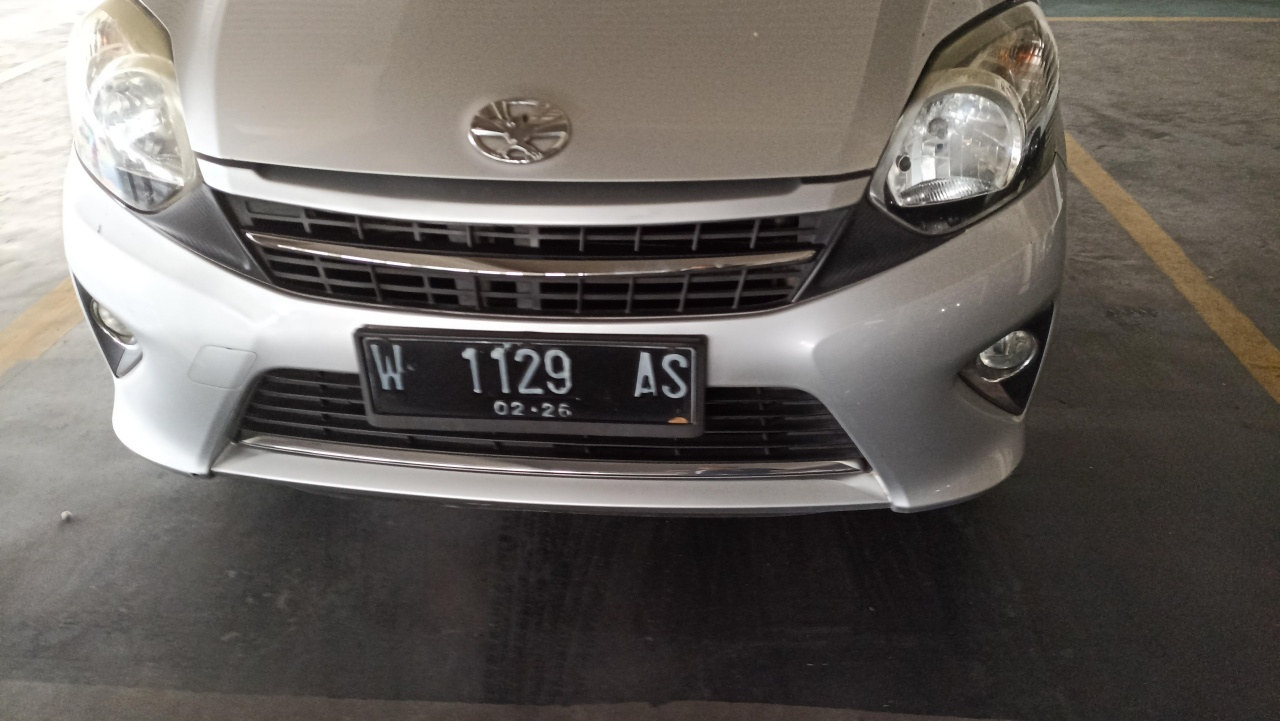plate: (358, 335, 700, 433)
